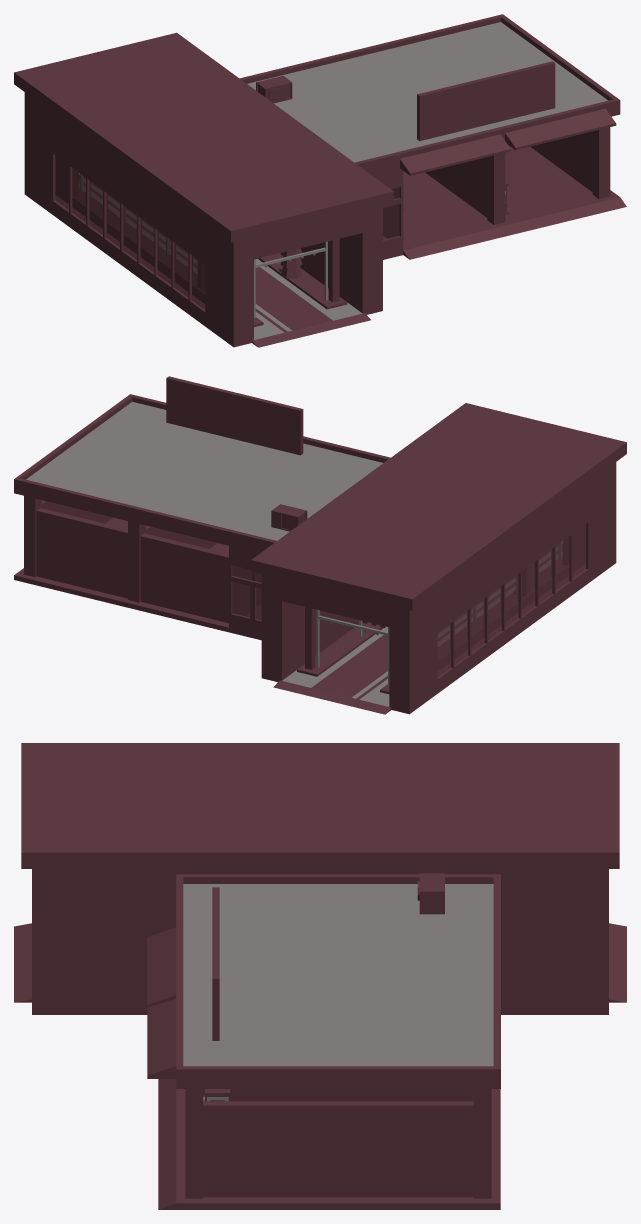
File: building-carwash.fbx
3 views of the same model, one above another, from view 1: azimuth 30°, elevation 25°; view 2: azimuth 150°, elevation 25°; view 3: azimuth 270°, elevation 25° (orthographic). The views are drawn at different scales.
Visible parts, largest first — view 1: building-carwash; view 2: building-carwash; view 3: building-carwash.
Part boxes in pixels (<box>): building-carwash: <box>14,14,626,347</box>; building-carwash: <box>14,376,626,714</box>; building-carwash: <box>14,743,626,1209</box>.
Bounding box in the file's own units: 19.7 × 6 × 17.
